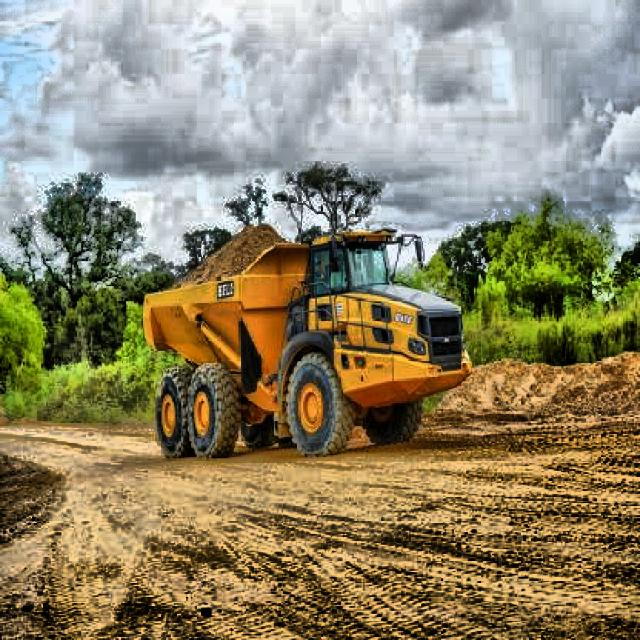dump_truck: (138, 216, 478, 460)
